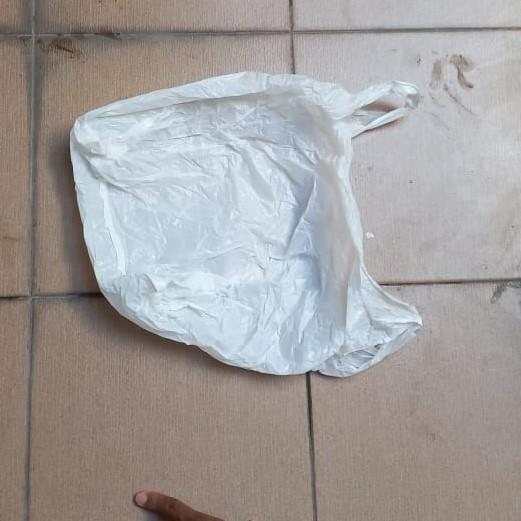Plastik: (69, 70, 437, 378)
